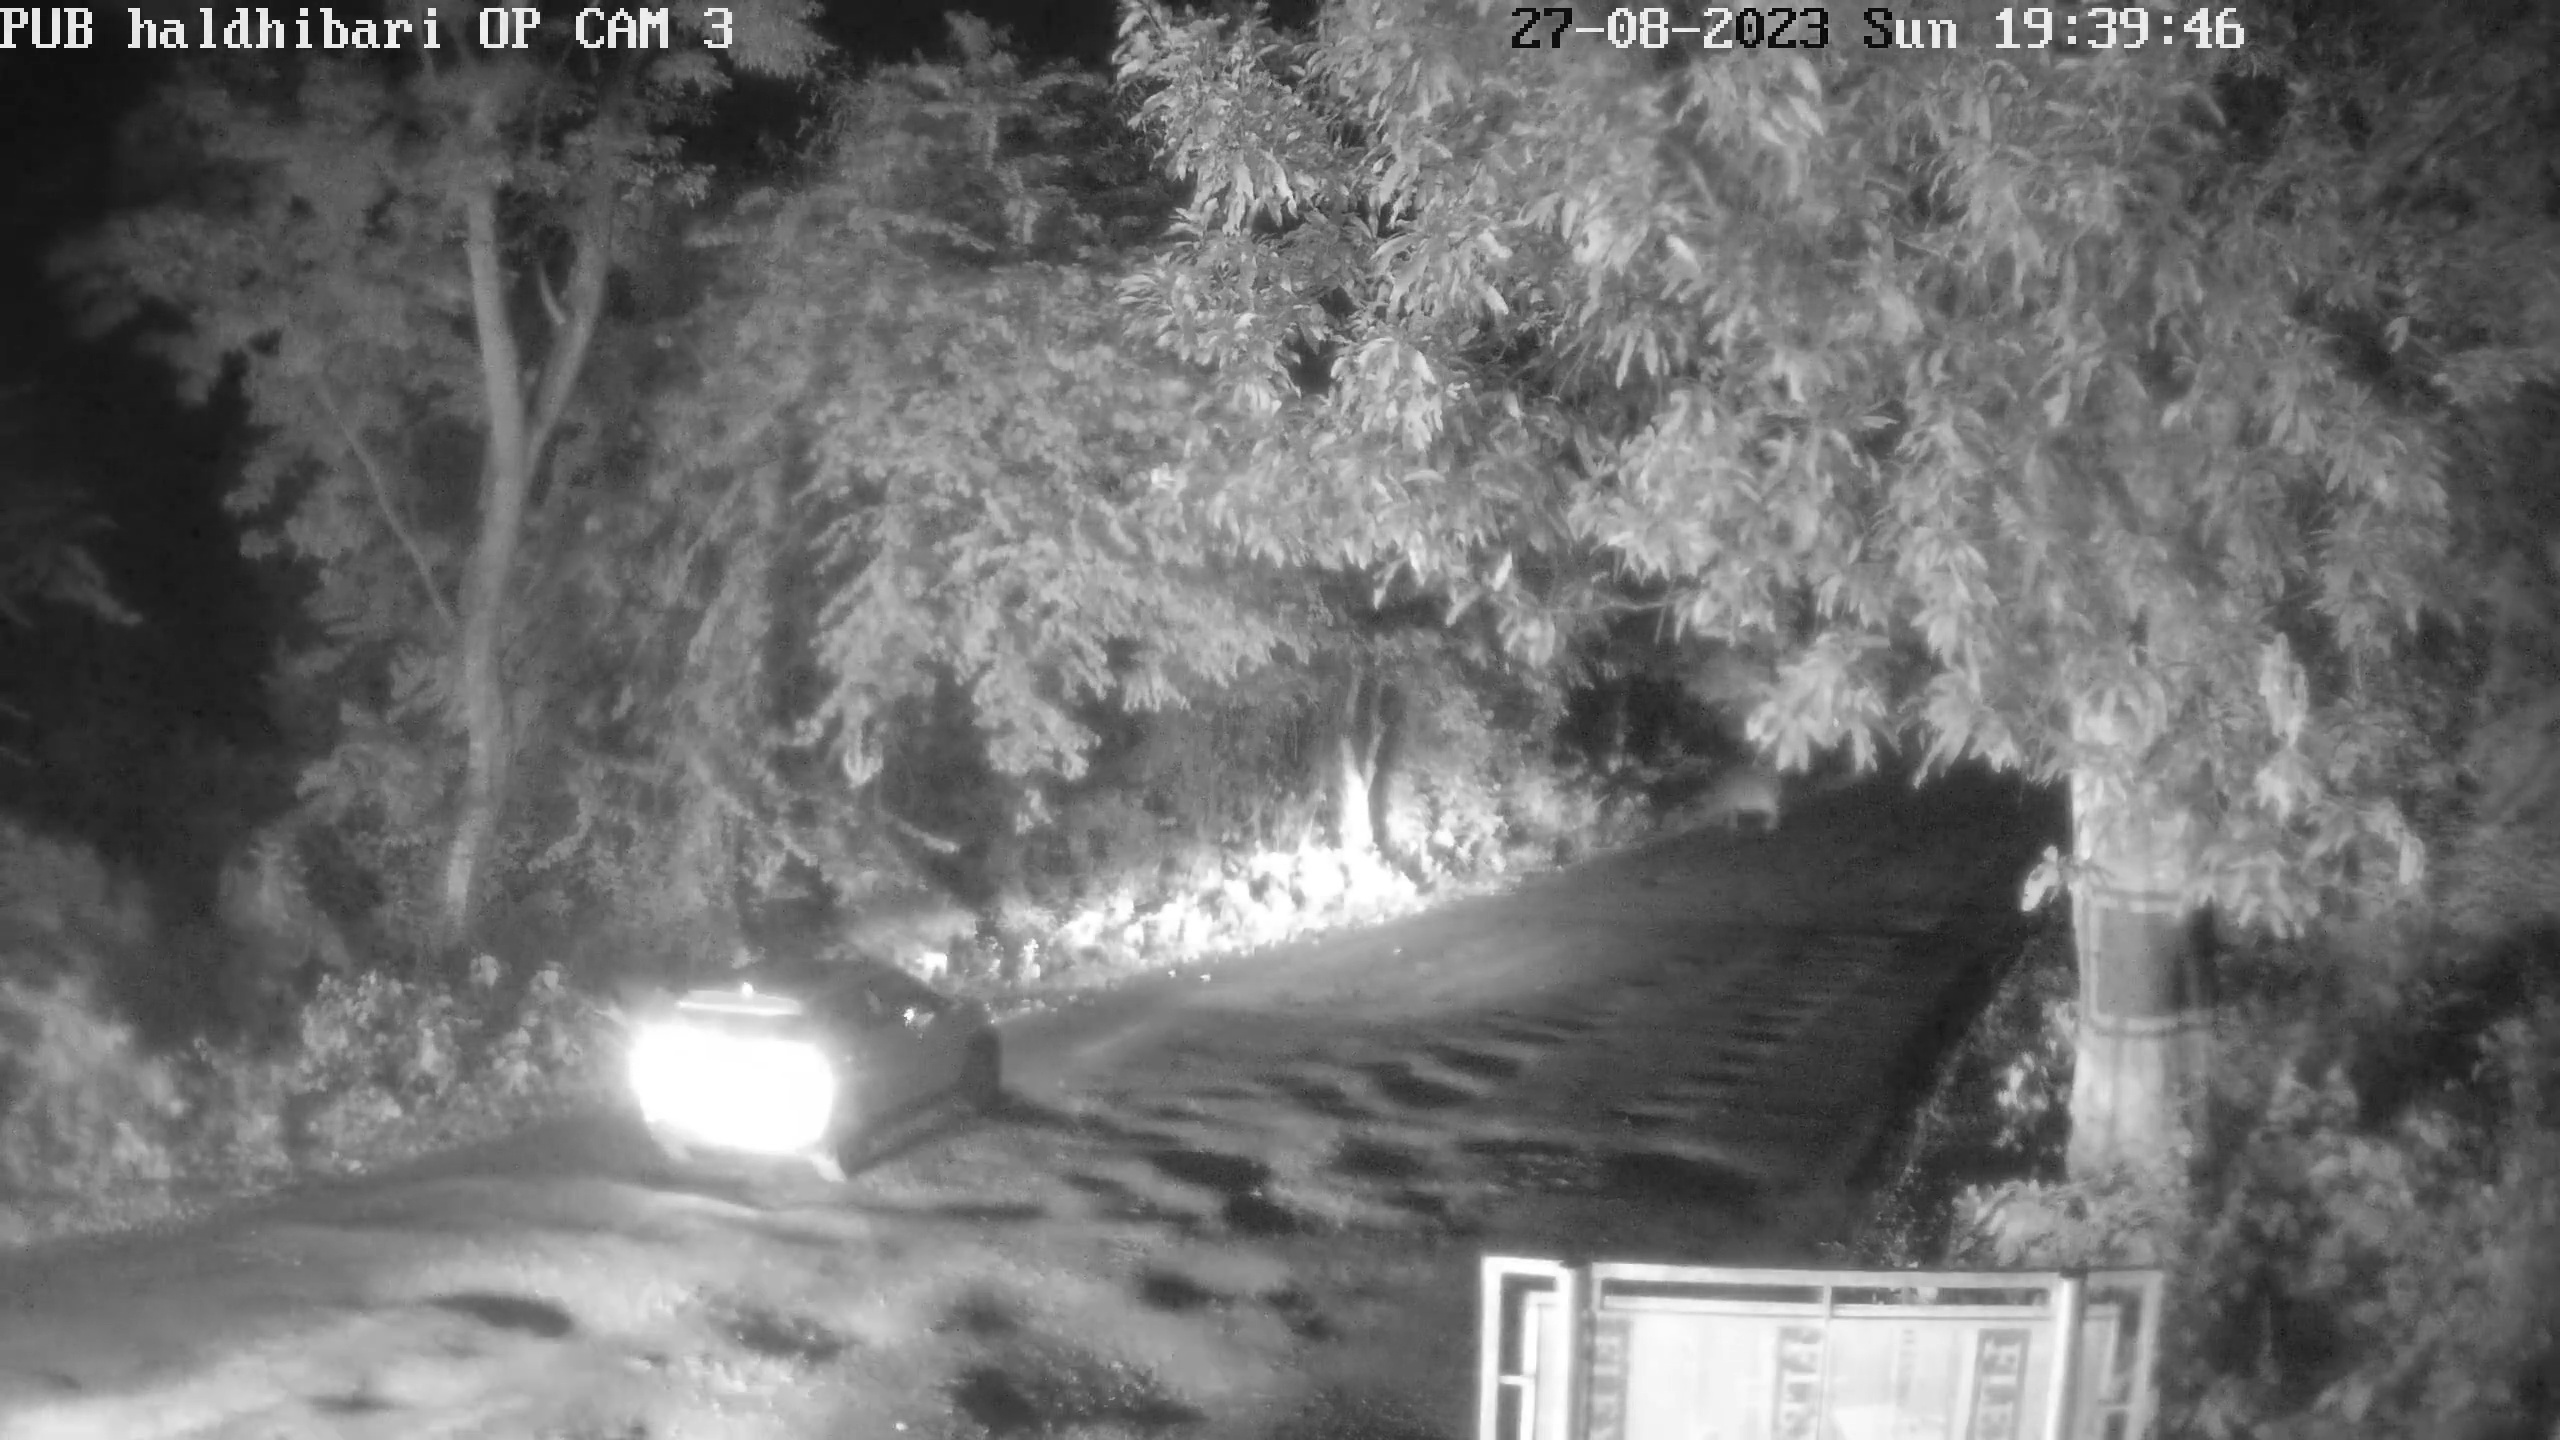rhinos: (1681, 761, 1779, 833)
